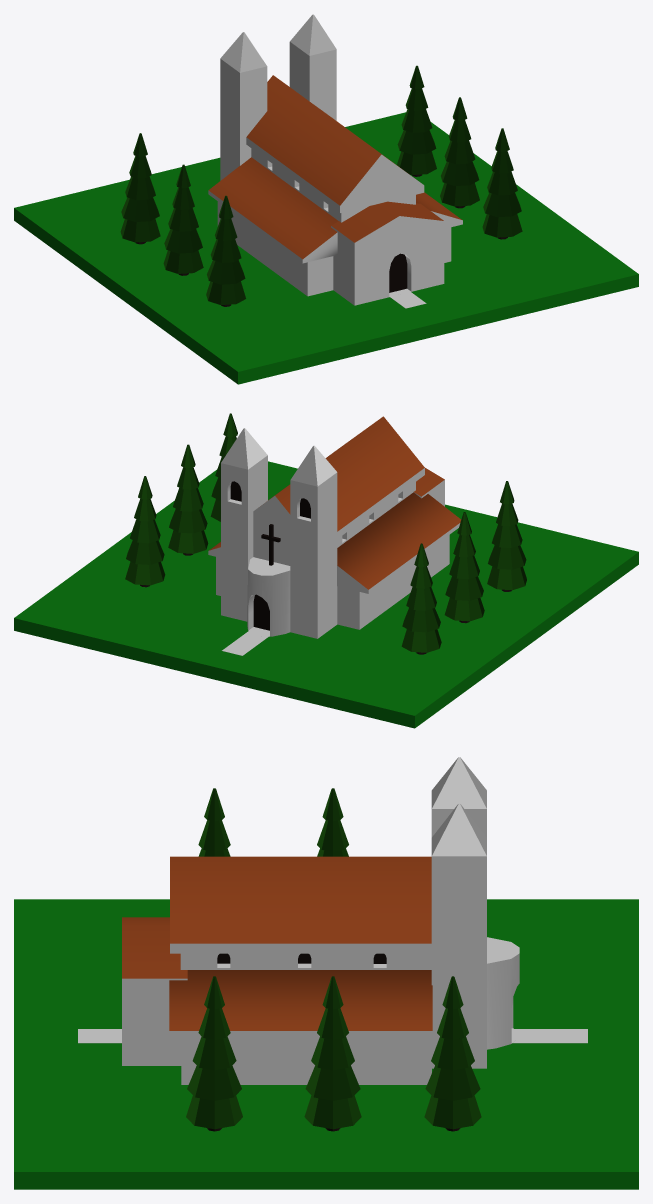
The model's file is Church_1221.obj.
The picture shows the model from 3 angles, top to bottom: view 1: azimuth 30°, elevation 25°; view 2: azimuth 150°, elevation 25°; view 3: azimuth 270°, elevation 25°; orthographic projection. The views are drawn at different scales.
Parts seen in each view (by area): view 1: Box030; view 2: Box030; view 3: Box030.
Part boxes in pixels (left/top/right/bottom): Box030: left=14, top=14, right=638, bottom=384; Box030: left=14, top=413, right=638, bottom=728; Box030: left=14, top=757, right=638, bottom=1189.
Bounding box in the file's own units: 130 × 60.86 × 126.
